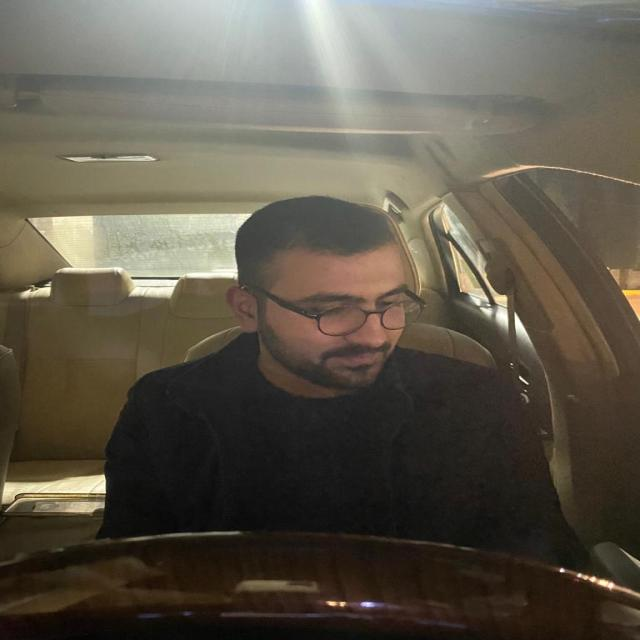person: (223, 194, 420, 391)
